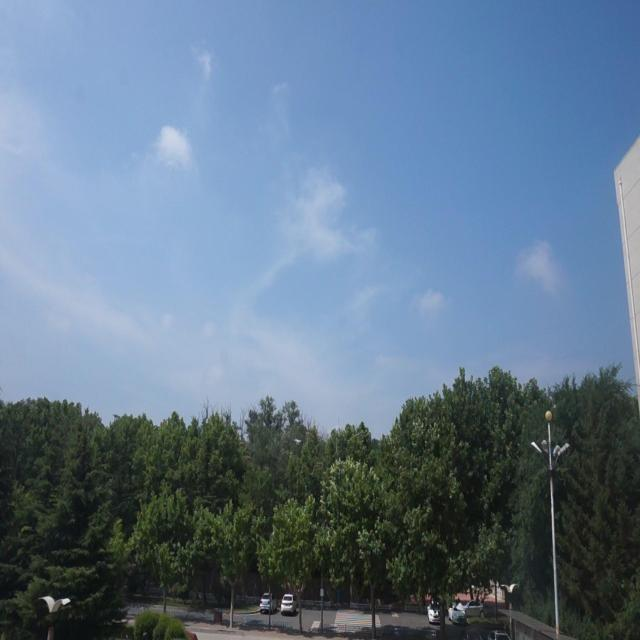drone: (292, 433, 303, 448)
